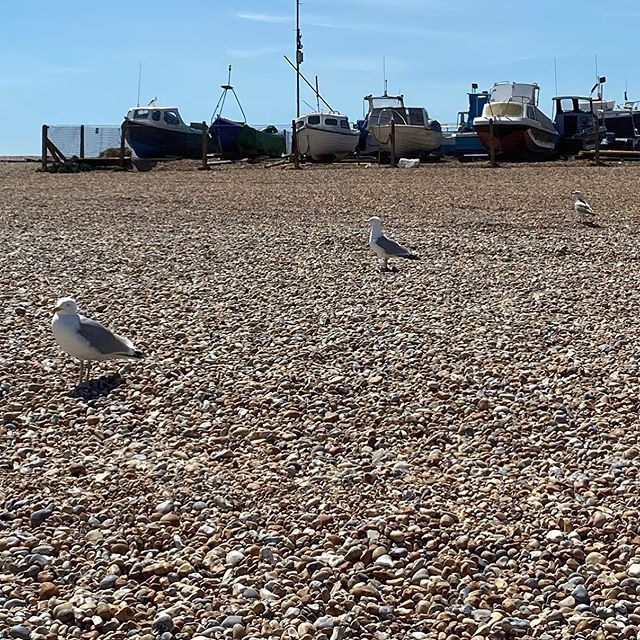animal: (36, 291, 147, 379), (357, 214, 424, 272), (564, 181, 603, 222)
boat: (117, 94, 213, 159), (201, 101, 297, 166), (275, 99, 371, 164), (359, 101, 455, 166), (466, 94, 562, 159)
sky: (1, 1, 640, 101)
